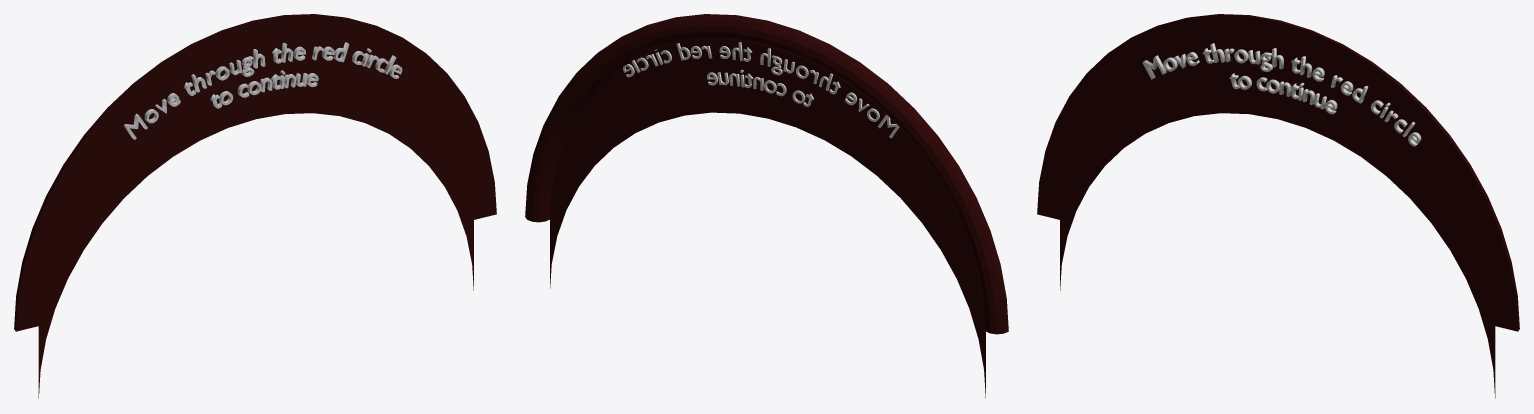
The model's file is arc3.obj.
3 renders of one model, left to right at view 1: azimuth 30°, elevation 25°; view 2: azimuth 150°, elevation 25°; view 3: azimuth 330°, elevation 25°, orthographic.
Parts seen in each view (by area): view 1: arc3; view 2: arc3; view 3: arc3.
Boxes of the visible parts, box(x1,y1,x2,y2) form: arc3: box(14, 14, 496, 398); arc3: box(525, 14, 1008, 398); arc3: box(1037, 14, 1519, 398).
Size of the model in its own units: 75.66 by 48.93 by 2.45.
